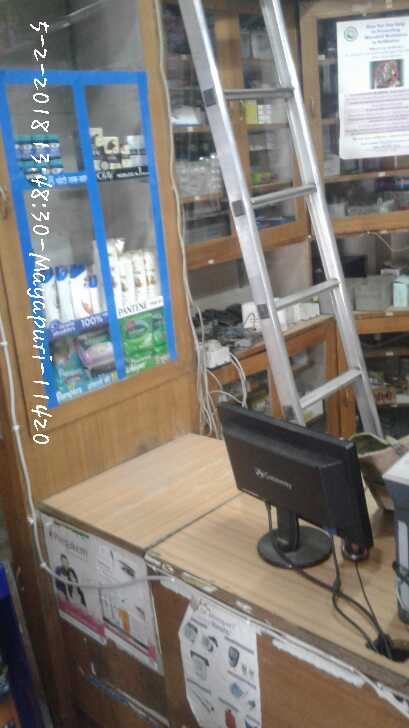vicks: (16, 129, 66, 178)
